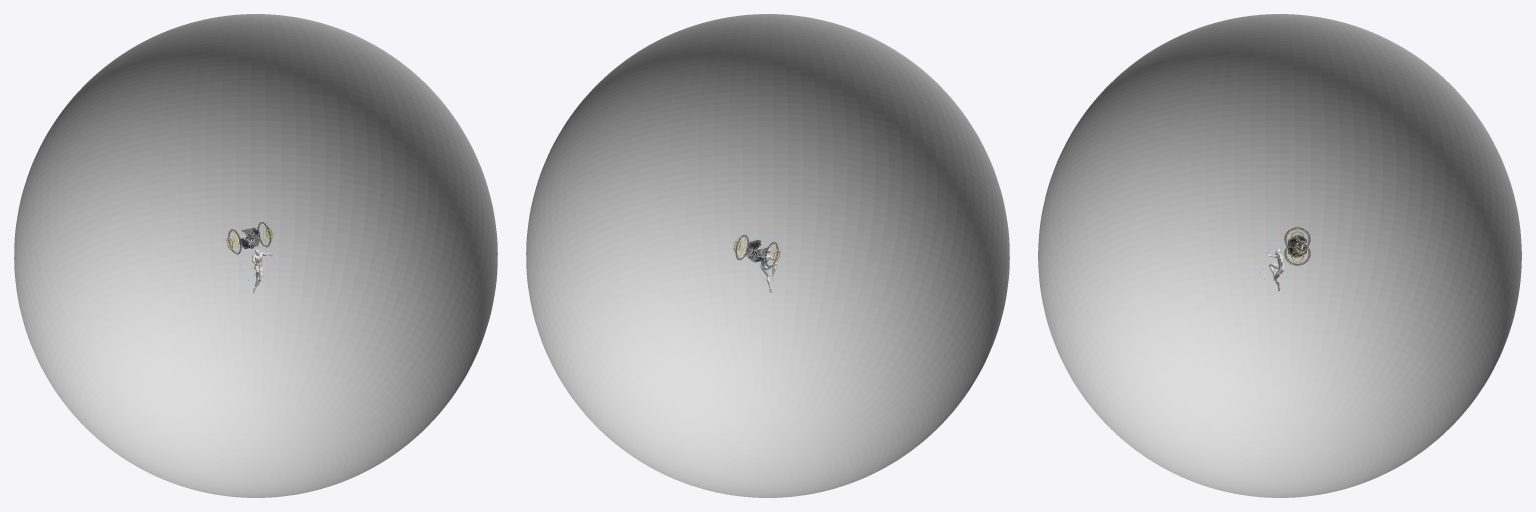
Rendered from vzscene-transformed.glb.
The picture shows the model from 3 angles, left to right: view 1: azimuth 30°, elevation 25°; view 2: azimuth 150°, elevation 25°; view 3: azimuth 270°, elevation 25°; orthographic projection.
Parts seen in each view (by area): view 1: dome; view 2: dome; view 3: dome.
Boxes of the visible parts, x1=… form: dome: x1=14, y1=14, x2=497, y2=497; dome: x1=526, y1=14, x2=1009, y2=497; dome: x1=1038, y1=14, x2=1521, y2=497.
Size of the model in its own units: 200 by 200 by 200.
7 materials, 1 textured.
